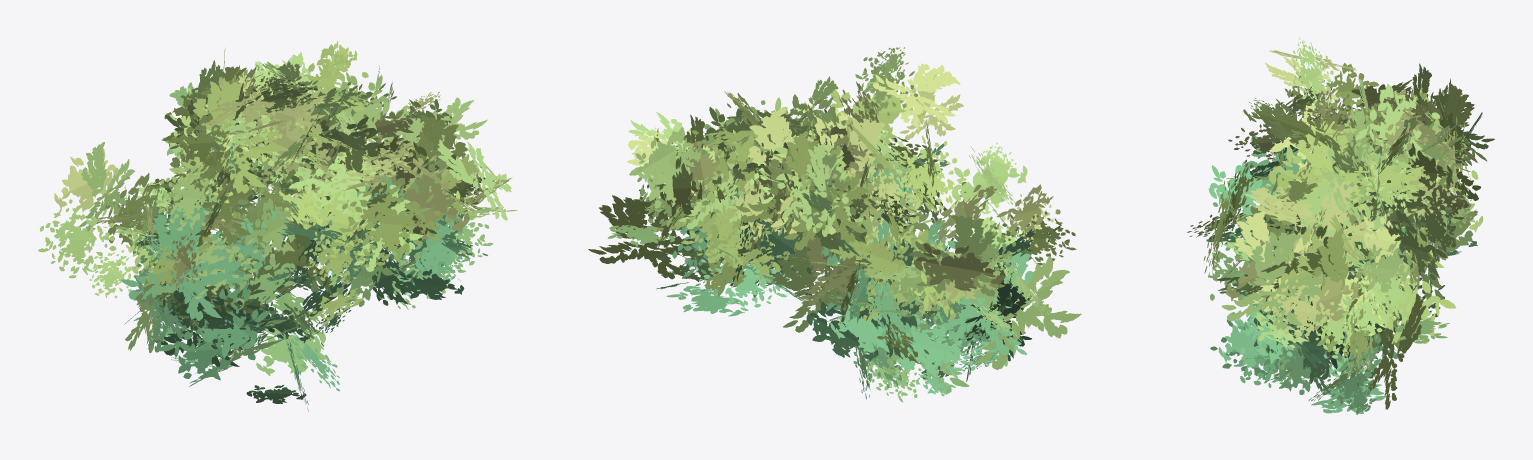
Rendered from Bush_01_Round_Lime_LOD1.glb.
3 renders of one model, left to right at view 1: azimuth 30°, elevation 25°; view 2: azimuth 150°, elevation 25°; view 3: azimuth 270°, elevation 25°, orthographic. The views are drawn at different scales.
Parts seen in each view (by area): view 1: Bush_01_Round_Lime_LOD1; view 2: Bush_01_Round_Lime_LOD1; view 3: Bush_01_Round_Lime_LOD1.
Part boxes in pixels (bbox=[...]): Bush_01_Round_Lime_LOD1: bbox=[38, 41, 517, 411]; Bush_01_Round_Lime_LOD1: bbox=[588, 47, 1081, 402]; Bush_01_Round_Lime_LOD1: bbox=[1187, 38, 1494, 414].
Bounding box in the file's own units: 2.46 × 1.71 × 1.5.
6 materials, 6 textured.
